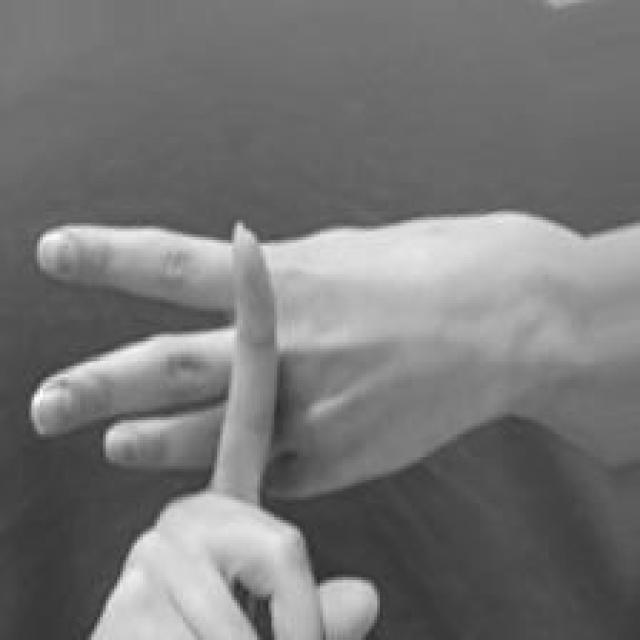E: (0, 188, 548, 640)
